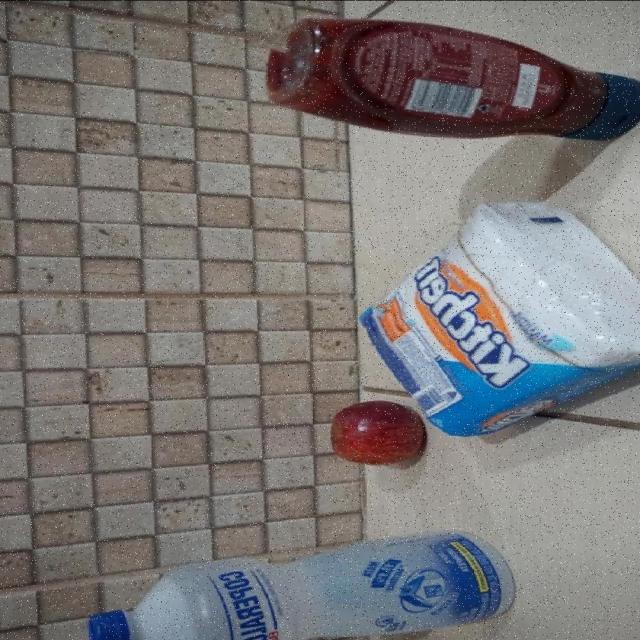AlcoholBottle: (84, 528, 519, 640)
Apple: (330, 402, 425, 466)
Ketchup: (263, 17, 640, 142)
Napkin: (357, 198, 640, 435)
